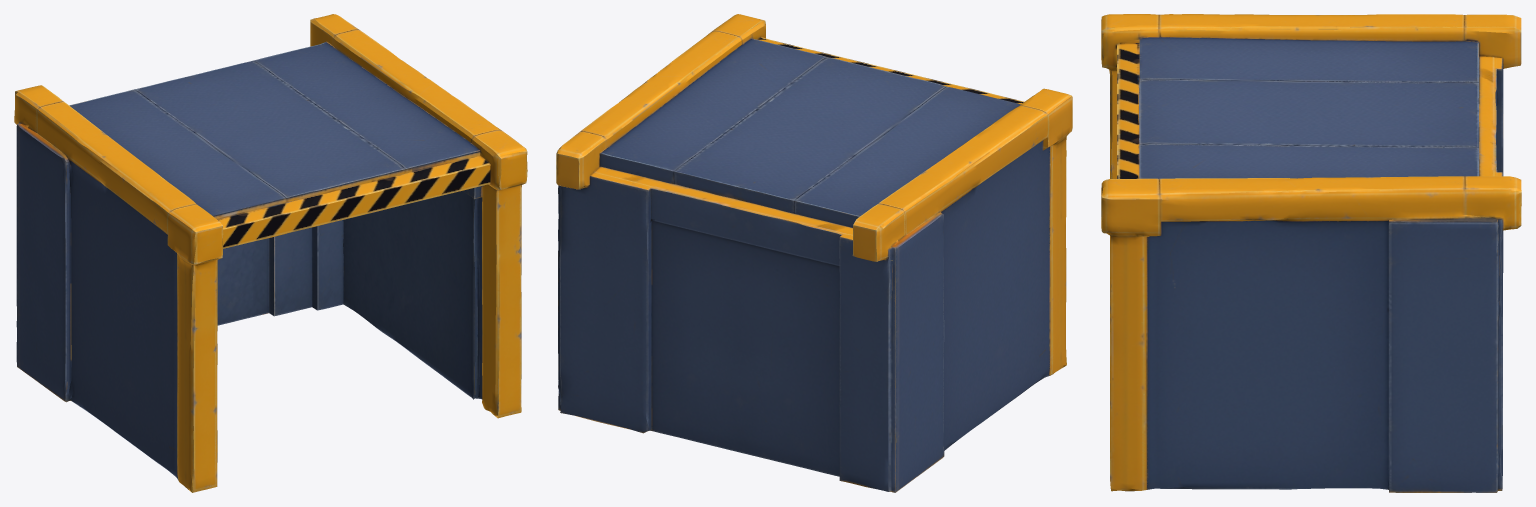
File: WinderStartingPos.fbx
3 views of the same model, side by side, from view 1: azimuth 30°, elevation 25°; view 2: azimuth 150°, elevation 25°; view 3: azimuth 270°, elevation 25° (orthographic). The views are drawn at different scales.
Parts seen in each view (by area): view 1: Mesh0; view 2: Mesh0; view 3: Mesh0.
Part boxes in pixels (x1,y1,x2,y2): Mesh0: (14, 14, 527, 492); Mesh0: (556, 14, 1072, 492); Mesh0: (1101, 14, 1521, 492).
Bounding box in the file's own units: 655 × 500 × 632.
1 material, 1 textured.
